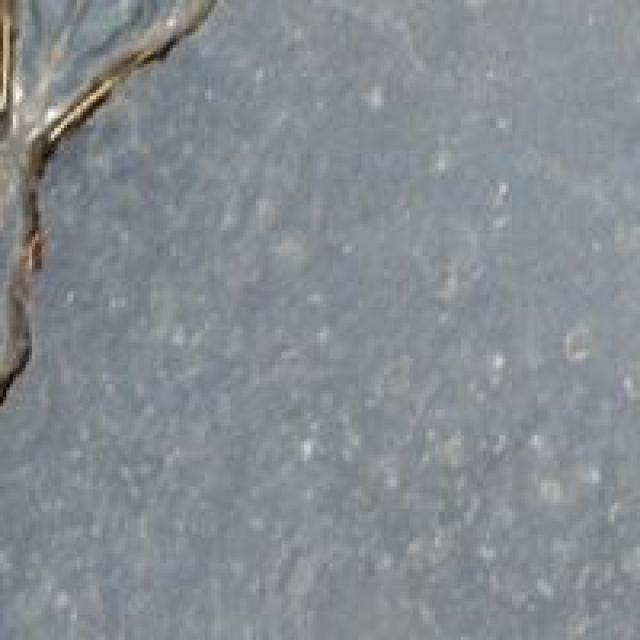crack: (9, 0, 211, 422)
